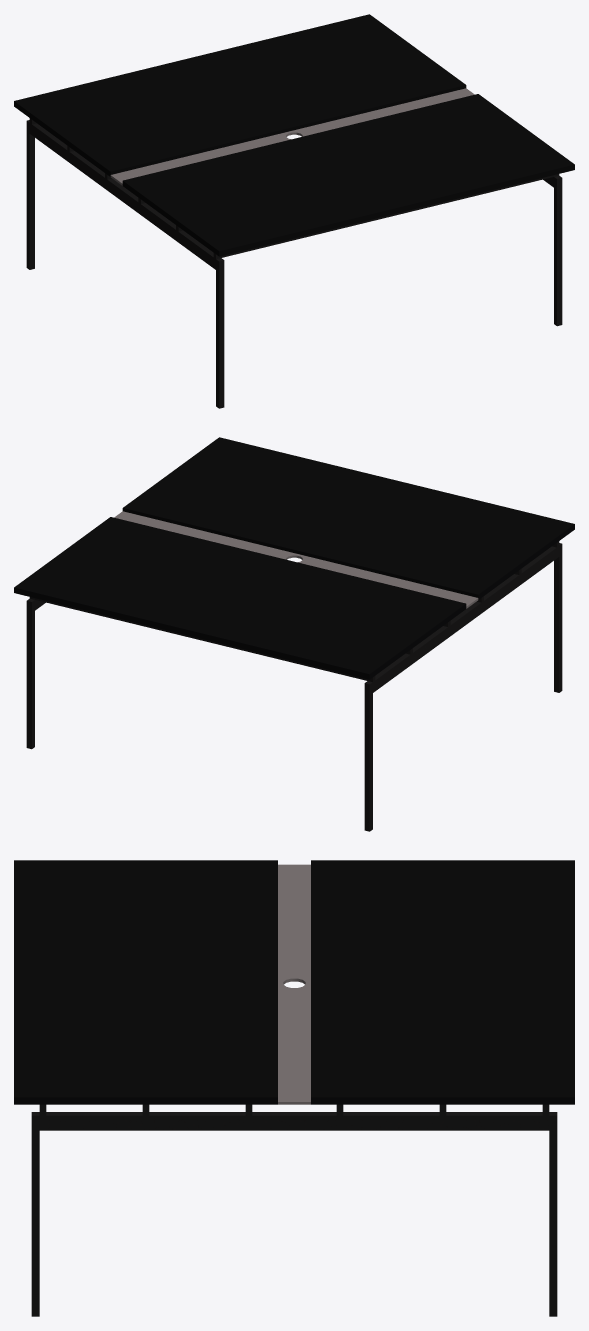
File: TableWorkingDouble.FBX
3 renders of one model, top to bottom at view 1: azimuth 30°, elevation 25°; view 2: azimuth 150°, elevation 25°; view 3: azimuth 270°, elevation 25°, orthographic. The views are drawn at different scales.
Parts seen in each view (by area): view 1: TableWorkingDouble; view 2: TableWorkingDouble; view 3: TableWorkingDouble.
Boxes of the visible parts, box(x1,y1,x2,y2) form: TableWorkingDouble: box(14, 14, 574, 408); TableWorkingDouble: box(14, 437, 574, 831); TableWorkingDouble: box(14, 860, 574, 1316).
Size of the model in its own units: 170 by 74.75 by 170.
